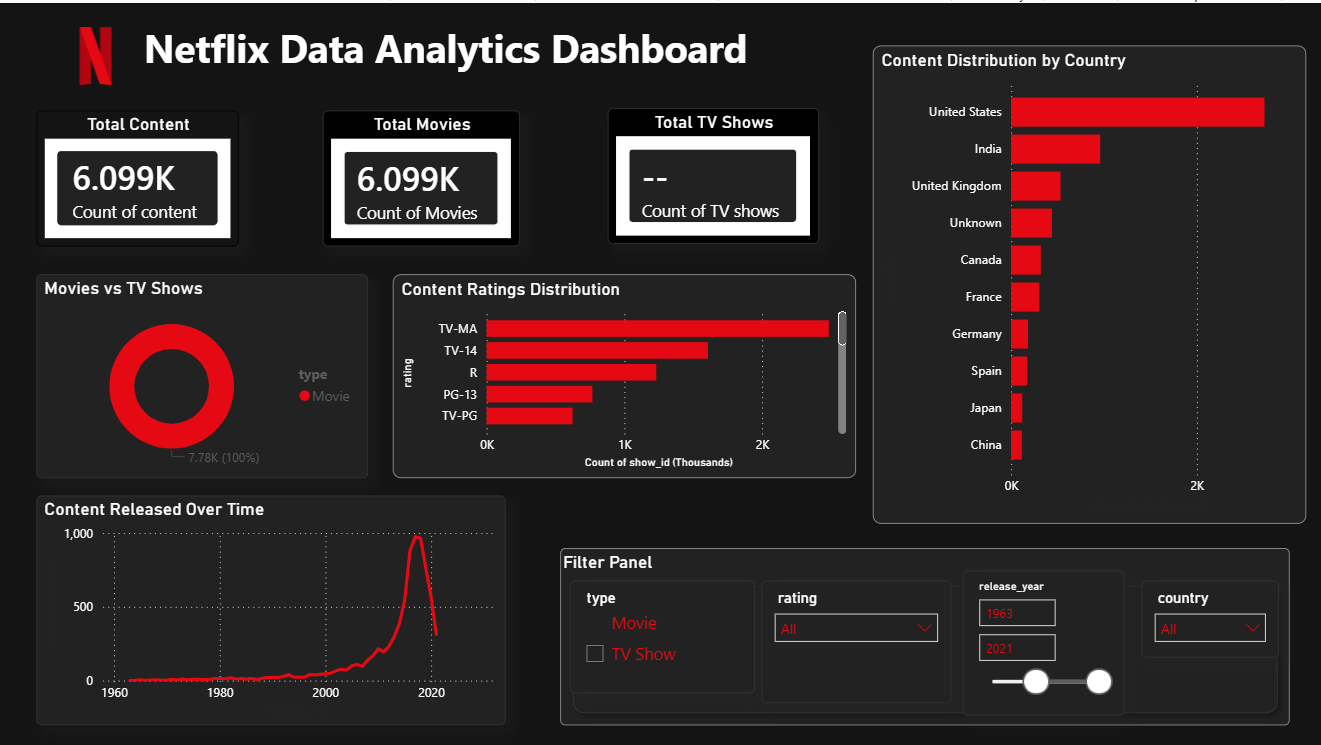

The page's visual inventory and layout, read from the dashboard file:
{"tool":"powerbi","page":{"name":"Page 1","canvas":[1280,720],"ordinal":0},"visuals":[{"type":"shape","box":[541.4,525.7,704.3,171.4],"z":0},{"type":"cardVisual","title":"Total Content","fields":{"Data":["Count(cleaned_netflix_data.show_id)"]},"box":[35.7,104.3,175.7,131.4],"z":1000},{"type":"cardVisual","title":"Total Movies","fields":{"Data":["Count(cleaned_netflix_data.show_id)"]},"box":[312.9,104.3,175.7,131.4],"z":2000},{"type":"donutChart","fields":{"Category":["cleaned_netflix_data.type"],"Y":["CountNonNull(cleaned_netflix_data.show_id)"]},"box":[35.7,261.4,320,197.1],"z":3000},{"type":"clusteredBarChart","fields":{"Category":["cleaned_netflix_data.country"],"Y":["CountNonNull(cleaned_netflix_data.show_id)"]},"box":[842.9,41.4,418.6,461.4],"z":4000},{"type":"lineChart","fields":{"Category":["cleaned_netflix_data.release_year"],"Y":["CountNonNull(cleaned_netflix_data.show_id)"]},"box":[35.7,475.7,452.9,221.4],"z":5000},{"type":"clusteredBarChart","fields":{"Category":["cleaned_netflix_data.rating"],"Y":["CountNonNull(cleaned_netflix_data.show_id)"]},"box":[380,261.4,447.1,197.1],"z":6000},{"type":"slicer","fields":{"Values":["cleaned_netflix_data.type"]},"box":[551.4,557.1,178.6,108.6],"z":7000},{"type":"slicer","fields":{"Values":["cleaned_netflix_data.country"]},"box":[1102.9,557.1,132.9,74.3],"z":8000},{"type":"slicer","fields":{"Values":["cleaned_netflix_data.rating"]},"box":[735.7,557.1,182.9,118.6],"z":9000},{"type":"slicer","fields":{"Values":["cleaned_netflix_data.release_year"]},"box":[930,547.1,155.7,140],"z":10000},{"type":"textbox","box":[114.3,12.9,632.9,91.4],"z":11000},{"type":"cardVisual","title":"Total TV Shows","fields":{"Data":["Count(cleaned_netflix_data.show_id)"]},"box":[587.1,101.4,175.7,131.4],"z":12000},{"type":"image","box":[0,0,186,102],"z":12001}]}

Visuals, with their boxes in screenshot pixels (x1, y1, x2, y2), scaled from the page's 1280x720 canvas onto the 1321x745 screenshot:
shape: x1=559 y1=544 x2=1286 y2=721
"Total Content" cardVisual: x1=37 y1=108 x2=218 y2=244
"Total Movies" cardVisual: x1=323 y1=108 x2=504 y2=244
donutChart - cleaned_netflix_data.type x CountNonNull(cleaned_netflix_data.show_id): x1=37 y1=270 x2=367 y2=474
clusteredBarChart - cleaned_netflix_data.country x CountNonNull(cleaned_netflix_data.show_id): x1=870 y1=43 x2=1302 y2=520
lineChart - cleaned_netflix_data.release_year x CountNonNull(cleaned_netflix_data.show_id): x1=37 y1=492 x2=504 y2=721
clusteredBarChart - cleaned_netflix_data.rating x CountNonNull(cleaned_netflix_data.show_id): x1=392 y1=270 x2=854 y2=474
slicer - cleaned_netflix_data.type: x1=569 y1=576 x2=753 y2=689
slicer - cleaned_netflix_data.country: x1=1138 y1=576 x2=1275 y2=653
slicer - cleaned_netflix_data.rating: x1=759 y1=576 x2=948 y2=699
slicer - cleaned_netflix_data.release_year: x1=960 y1=566 x2=1120 y2=711
textbox: x1=118 y1=13 x2=771 y2=108
"Total TV Shows" cardVisual: x1=606 y1=105 x2=787 y2=241
image: x1=0 y1=0 x2=192 y2=106
